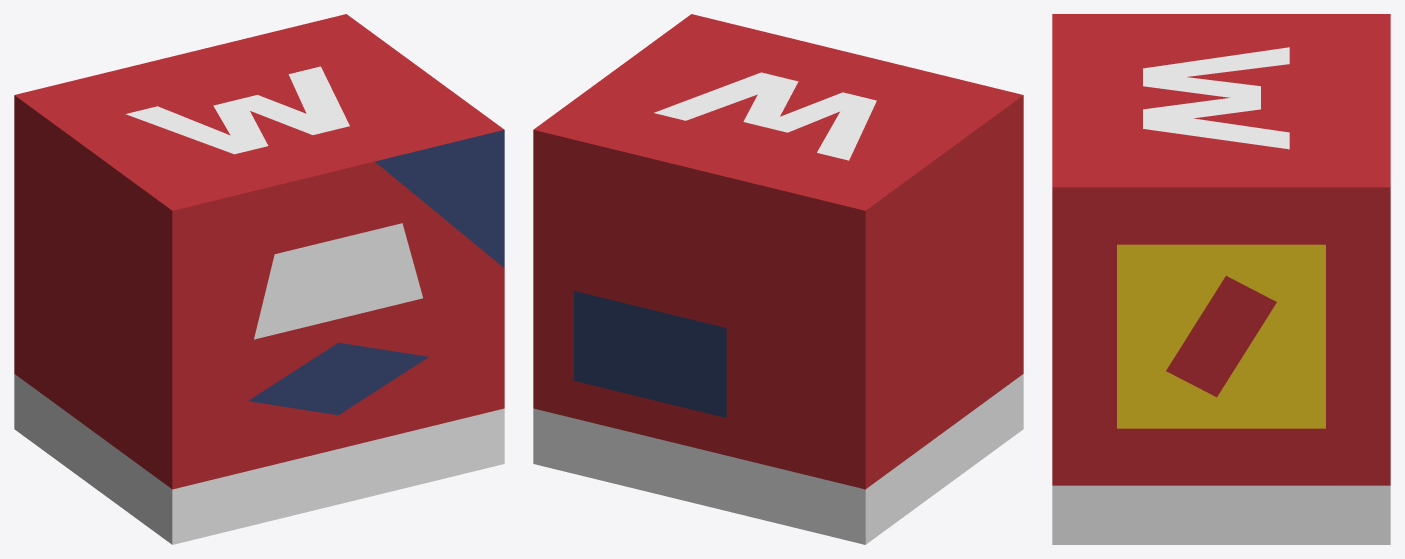
The model's file is weapons_ammo-shotgun.fbx.
3 views of the same model, side by side, from view 1: azimuth 30°, elevation 25°; view 2: azimuth 150°, elevation 25°; view 3: azimuth 270°, elevation 25° (orthographic). The views are drawn at different scales.
Visible parts, largest first — view 1: weapons_ammo_shotgun; view 2: weapons_ammo_shotgun; view 3: weapons_ammo_shotgun.
Part boxes in pixels (left/top/right/bottom): weapons_ammo_shotgun: left=14, top=14, right=504, bottom=544; weapons_ammo_shotgun: left=533, top=14, right=1023, bottom=544; weapons_ammo_shotgun: left=1052, top=14, right=1390, bottom=544.
Size of the model in its own units: 200 by 192 by 165.
